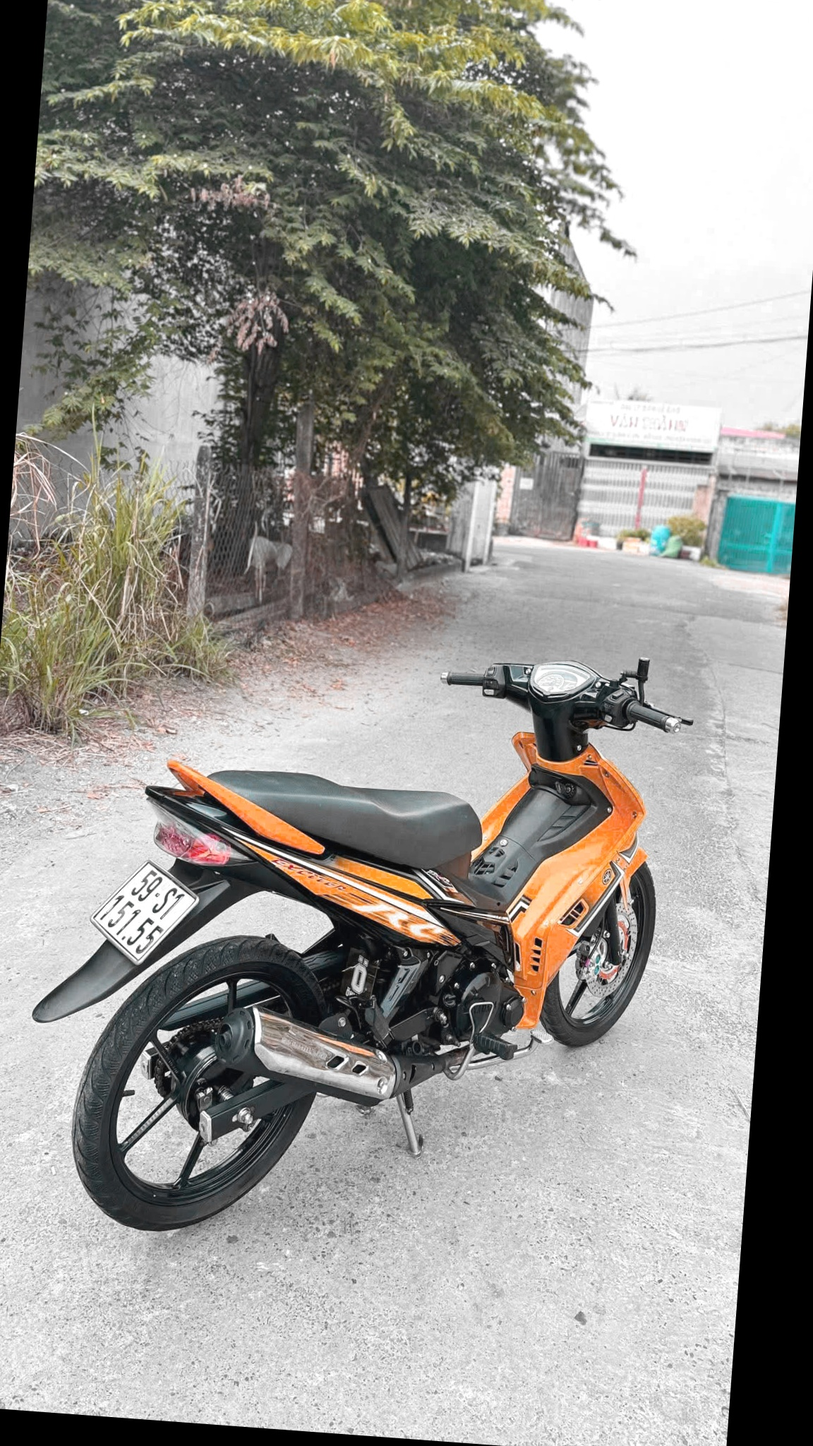Bien-so: (133, 910, 258, 1017)
